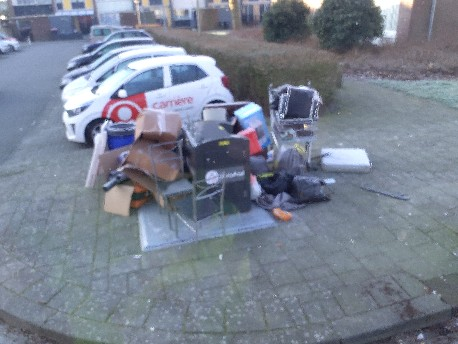Container: (185, 125, 247, 175)
Papier: (96, 163, 135, 208), (121, 147, 161, 184), (140, 114, 181, 140)
Rest: (251, 125, 318, 209), (223, 99, 277, 168), (167, 176, 222, 243), (262, 94, 314, 162), (144, 153, 184, 206), (325, 140, 367, 177), (102, 128, 130, 155)
Voertuig: (62, 63, 240, 116), (79, 33, 169, 85)
